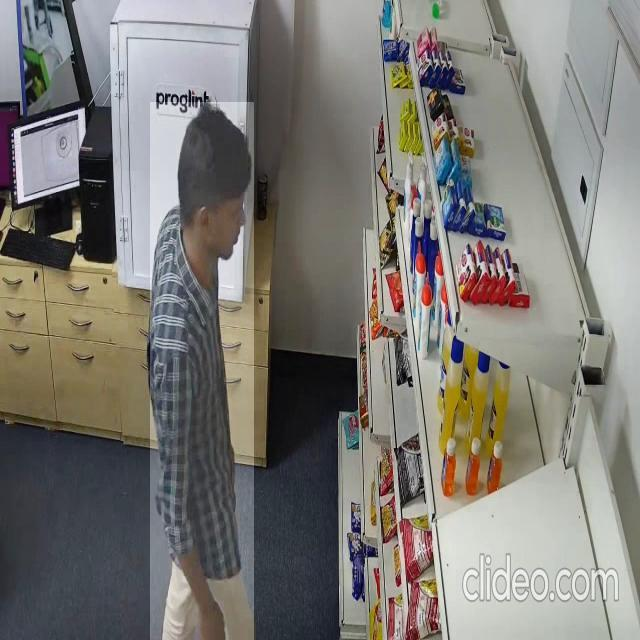normal: (150, 102, 254, 640)
